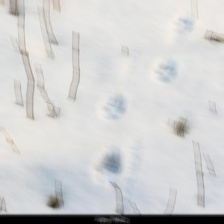coyote: (100, 93, 128, 122), (154, 57, 179, 87)
